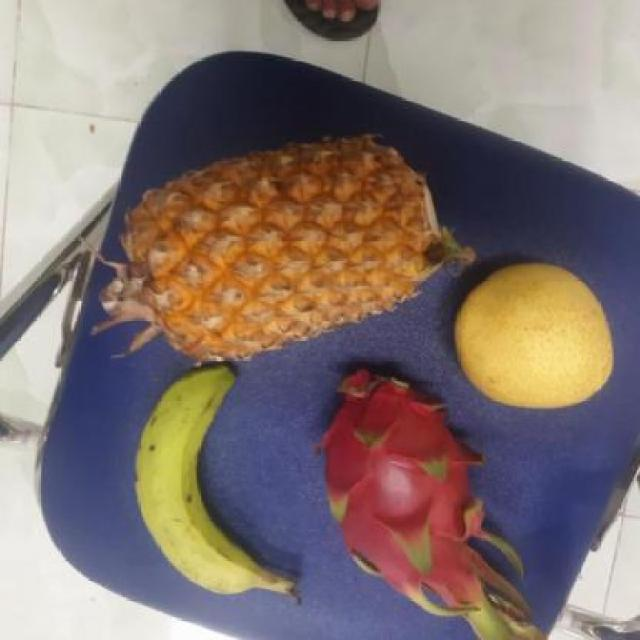banana: (128, 370, 288, 592)
dragon fruit: (312, 370, 497, 596)
pear: (454, 258, 614, 420)
pineapple: (98, 145, 451, 367)
